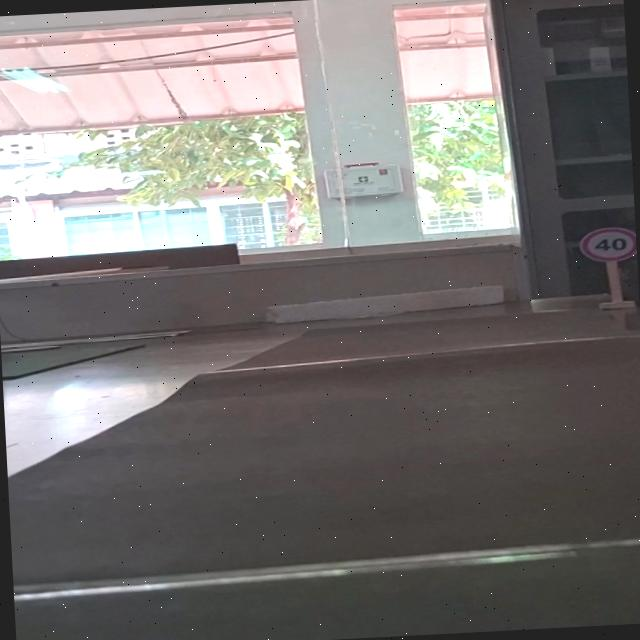Speed40: (576, 223, 638, 265)
